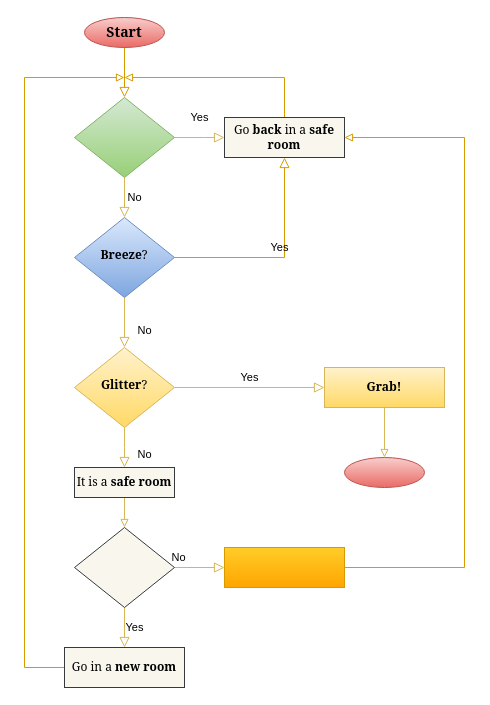
Some shapes in this 490 by 705 pixel diagram are drawn without their labels. The shapes that lost their labels are listed below. From the top down, each one's centre as x and y in pixels, then its label:
At (x=124, y=137): "Stench ?".
At (x=384, y=472): "End".
At (x=124, y=567): "Are there unvisited rooms ?".
At (x=284, y=567): "Shoot!".
